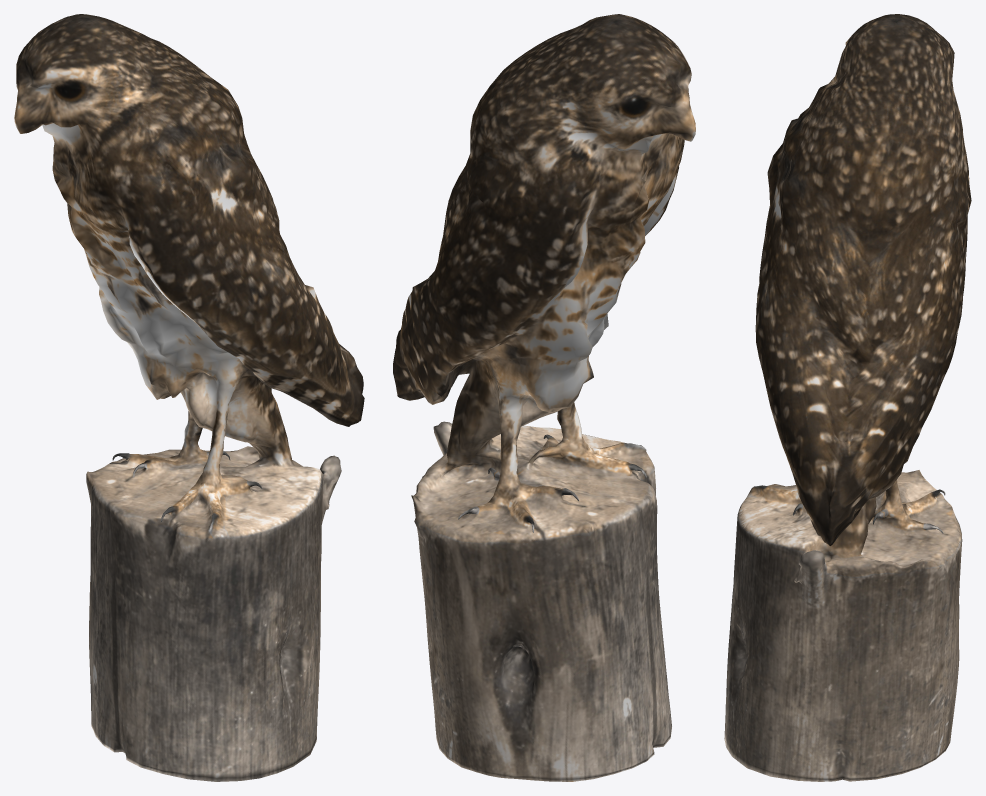
File: coruja.obj
3 views of the same model, side by side, from view 1: azimuth 30°, elevation 25°; view 2: azimuth 150°, elevation 25°; view 3: azimuth 270°, elevation 25° (orthographic). The views are drawn at different scales.
Parts seen in each view (by area): view 1: polySurface1; view 2: polySurface1; view 3: polySurface1.
Boxes of the visible parts, x1,y1,x2,y2 form: polySurface1: [14, 14, 364, 781]; polySurface1: [393, 14, 695, 781]; polySurface1: [724, 14, 971, 781].
Bounding box in the file's own units: 138 × 300 × 98.64.
